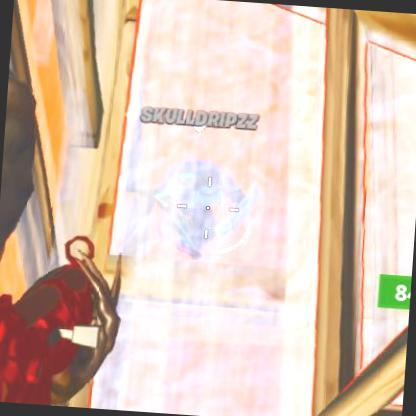person: (150, 149, 240, 251)
